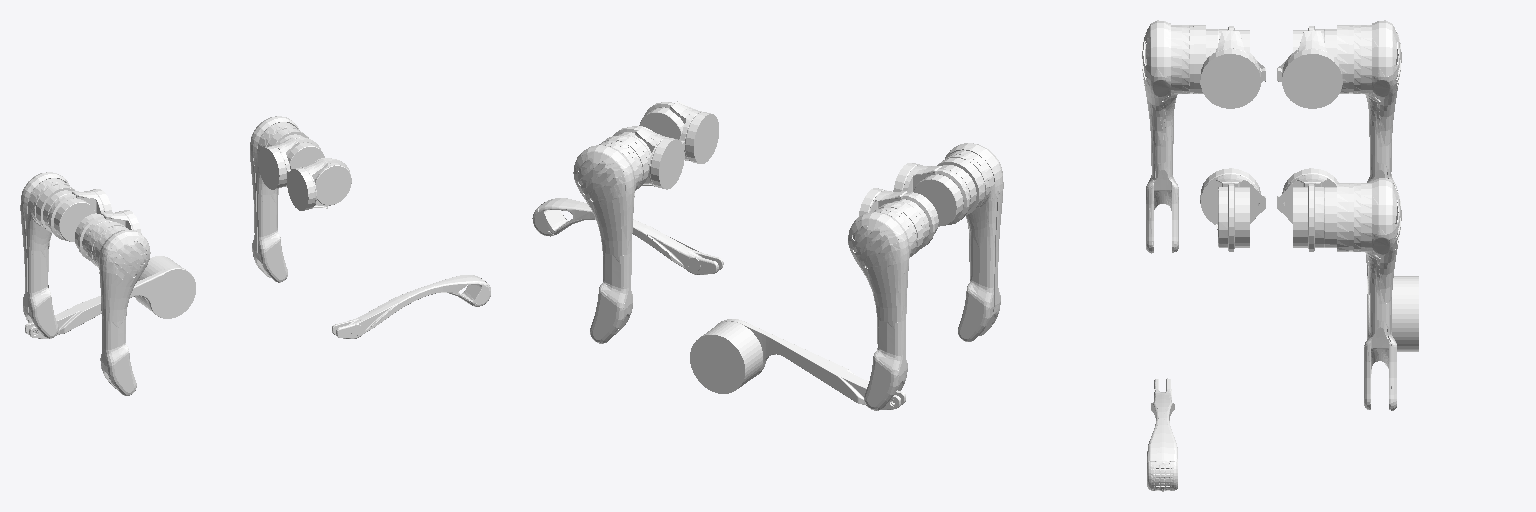
--- Render facts (derived) ---
Views: 3 orthographic renders of the robot side by side, from view 1: azimuth 30°, elevation 25°; view 2: azimuth 150°, elevation 25°; view 3: azimuth 270°, elevation 25°.
Model b2_description with 37 links and 36 joints (12 revolute, 24 fixed), rooted at base_link, posed all joints at 0 but 4 set to mid-range because 0 is outside their limits (FL_calf_joint = -1.62, FR_calf_joint = -1.62, RL_calf_joint = -1.62, RR_calf_joint = -1.62).
Links seen in each view (by area): view 1: RR_thigh, RL_thigh, RL_calf, FL_thigh, FR_calf, FR_hip, FL_hip, RL_hip, RR_hip; view 2: RL_thigh, FL_thigh, RL_calf, RR_thigh, FR_calf, FR_hip, RR_hip, FL_hip, RL_hip; view 3: FL_thigh, RR_thigh, RL_thigh, FR_hip, RL_hip, RR_hip, FL_hip, FR_calf, RL_calf.
Boxes of the visible links, x1,y1,x2,y2 form: RR_thigh: (85,221,150,395); RL_thigh: (20,172,75,338); RL_calf: (25,256,195,338); FL_thigh: (250,116,308,282); FR_calf: (332,275,490,338); FR_hip: (287,158,351,210); FL_hip: (258,137,324,189); RL_hip: (48,189,112,241); RR_hip: (75,210,141,260); RL_thigh: (848,202,925,410); FL_thigh: (573,135,650,343); RL_calf: (690,319,905,409); RR_thigh: (937,143,1003,341); FR_calf: (532,198,723,274); FR_hip: (639,101,718,163); RR_hip: (893,163,970,226); FL_hip: (613,126,684,189); RL_hip: (858,188,938,248); FL_thigh: (1324,178,1401,410); RR_thigh: (1141,20,1218,253); RL_thigh: (1324,20,1401,188); FR_hip: (1200,168,1265,251); RL_hip: (1277,26,1342,108); RR_hip: (1200,26,1265,108); FL_hip: (1277,168,1338,251); FR_calf: (1147,378,1177,491); RL_calf: (1366,255,1418,351).
Bounding box of the posed robot: 1.11 × 0.4879 × 0.4674 m (x, y, z).
9 mesh visuals loaded from 13 distinct referenced files (9 Collada DAE); not drawn: 4 (reference not matched to a file when rendering).

robot.urdf — b2_description:
<?xml version="1.0" encoding="utf-8"?>
<!-- This URDF was automatically created by SolidWorks to URDF Exporter! Originally created by Stephen Brawner ([email redacted]) 
     Commit Version: 1.6.0-4-g7f85cfe  Build Version: 1.6.7995.38578
     For more information, please see http://wiki.ros.org/sw_urdf_exporter -->
<robot
  name="b2_description">
  <link
    name="base_link">
    <inertial>
      <origin
        xyz="0.000458 0.005261 0.000665"
        rpy="0 0 0" />
      <mass
        value="35.606" />
      <inertia
        ixx="0.27466"
        ixy="-0.000622"
        ixz="0.00315"
        iyy="1.0618"
        iyz="-0.00139"
        izz="1.1825" />
    </inertial>
    <visual>
      <origin
        xyz="0 0 0"
        rpy="0 0 0" />
      <geometry>
        <mesh
          filename="package://b2_description/meshes/base_link.dae" />
      </geometry>
      <material
        name="">
        <color
          rgba="1 1 1 1" />
      </material>
    </visual>
    <collision>
      <origin
        xyz="0 0 0"
        rpy="0 0 0" />
        <geometry>
          <box size="0.5 0.28 0.15" />
        </geometry>
    </collision>
  </link>
  <link
    name="lidar_link">
    <inertial>
      <origin
        xyz="4.22E-15 1.05E-14 -3.05E-16"
        rpy="0 0 0" />
      <mass
        value="6.55E-08" />
      <inertia
        ixx="1.64E-15"
        ixy="0"
        ixz="-1.09E-47"
        iyy="1.64E-15"
        iyz="-1.32E-47"
        izz="1.64E-15" />
    </inertial>
    <collision>
      <origin
        xyz="0 0 -0.02"
        rpy="0 0 0" />
      <geometry>
        <cylinder length="0.16" radius="0.076" />
        <!-- <mesh
          filename="package://b2_description/meshes/lidar_link.STL" /> -->
      </geometry>
    </collision>
  </link>
  <joint
    name="joint_lidar"
    type="fixed">
    <origin
      xyz="0.34218 0 0.17851"
      rpy="0 0 0" />
    <parent
      link="base_link" />
    <child
      link="lidar_link" />
    <axis
      xyz="0 0 0" />
  </joint>
  <link
    name="f_dc_link">
    <inertial>
      <origin
        xyz="-3.47E-18 -1.11E-16 1.11E-16"
        rpy="0 0 0" />
      <mass
        value="6.54E-08" />
      <inertia
        ixx="1.64E-15"
        ixy="1.87E-32"
        ixz="-6.15E-32"
        iyy="1.64E-15"
        iyz="4.93E-32"
        izz="1.64E-15" />
    </inertial>
  </link>
  <joint
    name="joint_f_dc"
    type="fixed">
    <origin
      xyz="0.41251 0.024997 0.04765"
      rpy="-2.3562 0 -1.5708" />
    <parent
      link="base_link" />
    <child
      link="f_dc_link" />
    <axis
      xyz="0 0 0" />
  </joint>
  <link
    name="r_dc_link">
    <inertial>
      <origin
        xyz="1.63E-16 1.39E-16 2.78E-17"
        rpy="0 0 0" />
      <mass
        value="6.55E-08" />
      <inertia
        ixx="1.64E-15"
        ixy="-4.94E-44"
        ixz="4.36E-43"
        iyy="1.64E-15"
        iyz="0"
        izz="1.64E-15" />
    </inertial>
  </link>
  <joint
    name="joint_r_dc"
    type="fixed">
    <origin
      xyz="-0.4081 -0.025 0.024861"
      rpy="-2.3557 0 1.5708" />
    <parent
      link="base_link" />
    <child
      link="r_dc_link" />
    <axis
      xyz="0 0 0" />
  </joint>
  <link
    name="imu_link">
    <inertial>
      <origin
        xyz="-1.11E-16 -2.81E-16 -1.32E-16"
        rpy="0 0 0" />
      <mass
        value="6.54E-08" />
      <inertia
        ixx="1.64E-15"
        ixy="0"
        ixz="-1.09E-47"
        iyy="1.64E-15"
        iyz="-1.32E-47"
        izz="1.64E-15" />
    </inertial>
  </link>
  <joint
    name="joint_imu"
    type="fixed">
    <origin
      xyz="0 -0.02341 0.04927"
      rpy="0 0 0" />
    <parent
      link="base_link" />
    <child
      link="imu_link" />
    <axis
      xyz="0 0 0" />
  </joint>
  <link
    name="head_Link">
    <inertial>
      <origin
        xyz="0.33989 -0.000168 0.12029"
        rpy="0 0 0" />
      <mass
        value="3.366" />
      <inertia
        ixx="0.026455"
        ixy="3.15E-05"
        ixz="0.00166"
        iyy="0.029221"
        iyz="-3.27E-05"
        izz="0.010918" />
    </inertial>
    <collision>
      <origin
        xyz="0.41 0 0.005"
        rpy="0 0 0" />
      <geometry>
        <box size="0.04 0.12 0.14" />
      </geometry>
    </collision>
  </link>
  <joint
    name="joint_head"
    type="fixed">
    <origin
      xyz="0 0 0"
      rpy="0 0 0" />
    <parent
      link="base_link" />
    <child
      link="head_Link" />
    <axis
      xyz="0 0 0" />
  </joint>
  <link
    name="tail_link">
    <inertial>
      <origin
        xyz="-0.37448 0.000488 0.006495"
        rpy="0 0 0" />
      <mass
        value="0.777" />
      <inertia
        ixx="0.0028118"
        ixy="1.95E-05"
        ixz="-7.87E-06"
        iyy="0.0047506"
        iyz="-1.57E-05"
        izz="0.0029154" />
    </inertial>
    <collision>
      <origin
        xyz="-0.405 0 0.005"
        rpy="0 0 0" />
      <geometry>
        <box size="0.025 0.12 0.14" />
      </geometry>
    </collision>
  </link>
  <joint
    name="joint_tail"
    type="fixed">
    <origin
      xyz="0 0 0"
      rpy="0 0 0" />
    <parent
      link="base_link" />
    <child
      link="tail_link" />
    <axis
      xyz="0 0 0" />
  </joint>
  <link
    name="FL_hip">
    <inertial>
      <origin
        xyz="-0.009305 -0.010228 0.000264"
        rpy="0 0 0" />
      <mass
        value="2.256" />
      <inertia
        ixx="0.0026431"
        ixy="0.00019234"
        ixz="-6.76E-06"
        iyy="0.0046728"
        iyz="-7.16E-06"
        izz="0.0034208" />
    </inertial>
    <visual>
      <origin
        xyz="0 0 0"
        rpy="0 0 0" />
      <geometry>
        <mesh
          filename="package://b2_description/meshes/FL_hip.dae" />
      </geometry>
      <material
        name="">
        <color
          rgba="1 1 1 1" />
      </material>
    </visual>
    <collision>
      <origin
        xyz="0 0.12 0"
        rpy="1.5707963267948966 0 0" />
      <geometry>
        <cylinder length="0.05" radius="0.07" />
      </geometry>
    </collision>
  </link>
  <joint
    name="FL_hip_joint"
    type="revolute">
    <origin
      xyz="0.3285 0.072 0"
      rpy="0 0 0" />
    <parent
      link="base_link" />
    <child
      link="FL_hip" />
    <axis
      xyz="1 0 0" />
    <limit
      lower="-0.87"
      upper="0.87"
      effort="200"
      velocity="23" />
  </joint>
  <link name="FL_hip_rotor">
    <!-- <visual>
      <origin rpy="0 1.5707963267948966 0" xyz="0 0 0"/>
      <geometry>
        <cylinder length="0.02" radius="0.05"/>
      </geometry>
    </visual> -->
    <collision>
      <origin rpy="0 1.5707963267948966 0" xyz="0 0 0"/>
      <geometry>
        <cylinder length="0.02" radius="0.05"/>
      </geometry>
    </collision>
    <inertial>
      <origin rpy="0 0 0" xyz="0.0 0.0 0.0"/>
      <mass value="0.2734"/>
      <inertia ixx="0.000144463" ixy="0.0" ixz="0.0" iyy="0.000144463" iyz="0.0" izz="0.000263053"/>
    </inertial>
  </link>
  <joint name="FL_hip_rotor_joint" type="fixed">
    <origin rpy="0 0 0" xyz="0.20205 0.072 0"/>
    <parent link="base_link"/>
    <child link="FL_hip_rotor"/>
  </joint>
  <link
    name="FL_thigh">
    <inertial>
      <origin
        xyz="-0.004346 -0.035797 -0.044921"
        rpy="0 0 0" />
      <mass
        value="3.591" />
      <inertia
        ixx="0.041718"
        ixy="0.00055623"
        ixz="-0.0022768"
        iyy="0.041071"
        iyz="0.005796"
        izz="0.0065677" />
    </inertial>
    <visual>
      <origin
        xyz="0 0 0"
        rpy="0 0 0" />
      <geometry>
        <mesh
          filename="package://b2_description/meshes/FL_thigh.dae" />
      </geometry>
      <material
        name="">
        <color
          rgba="1 1 1 1" />
      </material>
    </visual>
    <collision>
      <origin
        xyz="-0.025 0 -0.16"
        rpy="0 1.57 0" />
      <geometry>
        <box size="0.32 0.0445 0.054" />
      </geometry>
    </collision>
  </link>
  <joint
    name="FL_thigh_joint"
    type="revolute">
    <origin
      xyz="0 0.11973 0"
      rpy="0 0 0" />
    <parent
      link="FL_hip" />
    <child
      link="FL_thigh" />
    <axis
      xyz="0 1 0" />
    <limit
      lower="-0.94"
      upper="4.69"
      effort="200"
      velocity="23" />
  </joint>
  <link name="FL_thigh_rotor">
    <!-- <visual>
      <origin rpy="1.5707963267948966 0 0" xyz="0 0 0"/>
      <geometry>
        <cylinder length="0.02" radius="0.05"/>
      </geometry>
    </visual> -->
    <collision>
      <origin rpy="1.5707963267948966 0 0" xyz="0 0 0"/>
      <geometry>
        <cylinder length="0.02" radius="0.05"/>
      </geometry>
    </collision>
    <inertial>
      <origin rpy="0 0 0" xyz="0.0 0.0 0.0"/>
      <mass value="0.2734"/>
      <inertia ixx="0.000144463" ixy="0.0" ixz="0.0" iyy="0.000144463" iyz="0.0" izz="0.000263053"/>
    </inertial>
  </link>
  <joint name="FL_thigh_rotor_joint" type="fixed">
    <origin rpy="0 0 0" xyz="0 -0.00798 0"/>
    <parent link="FL_hip"/>
    <child link="FL_thigh_rotor"/>
  </joint>
  <link
    name="FL_calf">
    <inertial>
      <origin
        xyz="0.012422 0 -0.12499"
        rpy="0 0 0" />
      <mass
        value="0.58094" />
      <inertia
        ixx="0.01143"
        ixy="0"
        ixz="0.000643"
        iyy="0.011534"
        iyz="0"
        izz="0.000331" />
    </inertial>
    <visual>
      <origin
        xyz="0 0 0"
        rpy="0 0 0" />
      <geometry>
        <mesh
          filename="package://b2_description/meshes/FL_calf.dae" />
      </geometry>
      <material
        name="">
        <color
          rgba="1 1 1 1" />
      </material>
    </visual>
    <collision>
      <origin rpy="0 1.2 0" xyz="-0.002 0 -0.03"/>
      <geometry>
        <box size="0.1 0.0245 0.018"/>
      </geometry>
    </collision>
    <collision>
      <origin rpy="0 1.35 0" xyz="0.022 0 -0.1"/>
      <geometry>
        <box size="0.1 0.0245 0.018"/>
      </geometry>
    </collision>
    <collision>
      <origin rpy="0 1.53 0" xyz="0.036 0 -0.225"/>
      <geometry>
        <box size="0.15 0.0245 0.015"/>
      </geometry>
    </collision>
    <collision>
      <origin rpy="0 2 0" xyz="0.023 0 -0.31"/>
      <geometry>
        <box size="0.05 0.028 0.035"/>
      </geometry>
    </collision>
  </link>
  <joint
    name="FL_calf_joint"
    type="revolute">
    <origin
      xyz="0 -8.6984E-05 -0.35"
      rpy="0 0 0" />
    <parent
      link="FL_thigh" />
    <child
      link="FL_calf" />
    <axis
      xyz="0 1 0" />
    <limit
      lower="-2.82"
      upper="-0.43"
      effort="320"
      velocity="14" />
  </joint>
  <link name="FL_calf_rotor">
    <!-- <visual>
      <origin rpy="1.5707963267948966 0 0" xyz="0 0 0"/>
      <geometry>
        <cylinder length="0.02" radius="0.05"/>
      </geometry>
    </visual> -->
    <collision>
      <origin rpy="1.5707963267948966 0 0" xyz="0 0 0"/>
      <geometry>
        <cylinder length="0.02" radius="0.05"/>
      </geometry>
    </collision>
    <inertial>
      <origin rpy="0 0 0" xyz="0.0 0.0 0.0"/>
      <mass value="0.2734"/>
      <inertia ixx="0.000144463" ixy="0.0" ixz="0.0" iyy="0.000144463" iyz="0.0" izz="0.000263053"/>
    </inertial>
  </link>
  <joint name="FL_calf_rotor_joint" type="fixed">
    <origin rpy="0 0 0" xyz="0 -0.05788 0"/>
    <parent link="FL_thigh"/>
    <child link="FL_calf_rotor"/>
  </joint>
  <link
    name="FL_foot">
    <inertial>
      <origin
        xyz="-0.006511 0 -0.010144"
        rpy="0 0 0" />
      <mass
        value="0.098183" />
      <inertia
        ixx="3.8E-05"
        ixy="0"
        ixz="1.1E-05"
        iyy="4.1E-05"
        iyz="0"
        izz="4.2E-05" />
    </inertial>
    <collision>
      <origin
        xyz="0 0 0"
        rpy="1.57 0 0" />
      <geometry>
        <cylinder length="0.05" radius="0.032" />
      </geometry>
    </collision>
  </link>
  <joint
    name="FL_foot_joint"
    type="fixed">
    <origin
      xyz="0 0 -0.35"
      rpy="0 0 0" />
    <parent
      link="FL_calf" />
    <child
      link="FL_foot" />
  </joint>
  <link
    name="FR_hip">
    <inertial>
      <origin
        xyz="-0.009305 0.010228 0.000264"
        rpy="0 0 0" />
      <mass
        value="2.256" />
      <inertia
        ixx="0.0026431"
        ixy="-0.00019234"
        ixz="-6.76E-06"
        iyy="0.0046728"
        iyz="7.16E-06"
        izz="0.0034208" />
    </inertial>
    <visual>
      <origin
        xyz="0 0 0"
        rpy="0 0 0" />
      <geometry>
        <mesh
          filename="package://b2_description/meshes/FR_hip.dae" />
      </geometry>
      <material
        name="">
        <color
          rgba="1 1 1 1" />
      </material>
    </visual>
    <collision>
      <origin
        xyz="0 -0.12 0"
        rpy="1.5707963267948966 0 0" />
      <geometry>
        <cylinder length="0.05" radius="0.07" />
      </geometry>
    </collision>
  </link>
  <joint
    name="FR_hip_joint"
    type="revolute">
    <origin
      xyz="0.3285 -0.072 0"
      rpy="0 0 0" />
    <parent
      link="base_link" />
    <child
      link="FR_hip" />
    <axis
      xyz="1 0 0" />
    <limit
      lower="-0.87"
      upper="0.87"
      effort="200"
      velocity="23" />
  </joint>
  <link name="FR_hip_rotor">
    <!-- <visual>
      <origin rpy="0 1.5707963267948966 0" xyz="0 0 0"/>
      <geometry>
        <cylinder length="0.02" radius="0.05"/>
      </geometry>
    </visual> -->
    <collision>
      <origin rpy="0 1.5707963267948966 0" xyz="0 0 0"/>
      <geometry>
        <cylinder length="0.02" radius="0.05"/>
      </geometry>
    </collision>
    <inertial>
      <origin rpy="0 0 0" xyz="0.0 0.0 0.0"/>
      <mass value="0.2734"/>
      <inertia ixx="0.000144463" ixy="0.0" ixz="0.0" iyy="0.000144463" iyz="0.0" izz="0.000263053"/>
    </inertial>
  </link>
  <joint name="FR_hip_rotor_joint" type="fixed">
    <origin rpy="0 0 0" xyz="0.20205 -0.072 0"/>
    <parent link="base_link"/>
    <child link="FR_hip_rotor"/>
  </joint>
  <link
    name="FR_thigh">
    <inertial>
      <origin
        xyz="-0.004346 0.035797 -0.044921"
        rpy="0 0 0" />
      <mass
        value="3.591" />
      <inertia
        ixx="0.041718"
        ixy="-0.00055623"
        ixz="-0.0022768"
        iyy="0.041071"
        iyz="-0.005796"
        izz="0.0065677" />
    </inertial>
    <visual>
      <origin
        xyz="0 0 0"
        rpy="0 0 0" />
      <geometry>
        <mesh
          filename="package://b2_description/meshes/FR_thigh.dae" />
      </geometry>
      <material
        name="">
        <color
          rgba="1 1 1 1" />
      </material>
    </visual>
    <collision>
      <origin rpy="0 1.57 0" xyz="-0.03 0 -0.2"/>
      <geometry>
        <box size="0.25 0.028 0.04"/>
      </geometry>
    </collision>
  </link>
  <joint
    name="FR_thigh_joint"
    type="revolute">
    <origin
      xyz="0 -0.11973 0"
      rpy="0 0 0" />
    <parent
      link="FR_hip" />
    <child
      link="FR_thigh" />
    <axis
      xyz="0 1 0" />
    <limit
      lower="-0.94"
      upper="4.69"
      effort="200"
      velocity="23" />
  </joint>
  <link name="FR_thigh_rotor">
    <!-- <visual>
      <origin rpy="1.5707963267948966 0 0" xyz="0 0 0"/>
      <geometry>
        <cylinder length="0.02" radius="0.05"/>
      </geometry>
    </visual> -->
    <collision>
      <origin rpy="1.5707963267948966 0 0" xyz="0 0 0"/>
      <geometry>
        <cylinder length="0.02" radius="0.05"/>
      </geometry>
    </collision>
    <inertial>
      <origin rpy="0 0 0" xyz="0.0 0.0 0.0"/>
      <mass value="0.2734"/>
      <inertia ixx="0.000144463" ixy="0.0" ixz="0.0" iyy="0.000144463" iyz="0.0" izz="0.000263053"/>
    </inertial>
  </link>
  <joint name="FR_thigh_rotor_joint" type="fixed">
    <origin rpy="0 0 0" xyz="0 0.00798 0"/>
    <parent link="FR_hip"/>
    <child link="FR_thigh_rotor"/>
  </joint>
  <link
    name="FR_calf">
    <inertial>
      <origin
        xyz="0.012422 0 -0.12499"
        rpy="0 0 0" />
      <mass
        value="0.58094" />
      <inertia
        ixx="0.01143"
        ixy="0"
        ixz="0.000643"
        iyy="0.011534"
        iyz="0"
        izz="0.000331" />
    </inertial>
    <visual>
      <origin
        xyz="0 0 0"
        rpy="0 0 0" />
      <geometry>
        <mesh
          filename="package://b2_description/meshes/FR_calf.dae" />
      </geometry>
      <material
        name="">
        <color
          rgba="1 1 1 1" />
      </material>
    </visual>
    <collision>
      <origin rpy="0 1.2 0" xyz="-0.002 0 -0.03"/>
      <geometry>
        <box size="0.1 0.0245 0.018"/>
      </geometry>
    </collision>
    <collision>
      <origin rpy="0 1.35 0" xyz="0.022 0 -0.1"/>
      <geometry>
        <box size="0.1 0.0245 0.018"/>
      </geometry>
    </collision>
    <collision>
      <origin rpy="0 1.53 0" xyz="0.036 0 -0.225"/>
      <geometry>
        <box size="0.15 0.0245 0.015"/>
      </geometry>
    </collision>
    <collision>
      <origin rpy="0 2 0" xyz="0.023 0 -0.31"/>
      <geometry>
        <box size="0.05 0.028 0.035"/>
      </geometry>
    </collision>
  </link>
  <joint
    name="FR_calf_joint"
    type="revolute">
    <origin
      xyz="0 8.6986E-05 -0.35"
      rpy="0 0 0" />
    <parent
      link="FR_thigh" />
    <child
      link="FR_calf" />
    <axis
      xyz="0 1 0" />
    <limit
      lower="-2.82"
      upper="-0.43"
      effort="320"
      velocity="14" />
  </joint>
  <link name="FR_calf_rotor">
    <!-- <visual>
      <origin rpy="1.5707963267948966 0 0" xyz="0 0 0"/>
      <geometry>
        <cylinder length="0.02" radius="0.05"/>
      </geometry>
      <material name="green"/>
    </visual> -->
    <collision>
      <origin rpy="1.5707963267948966 0 0" xyz="0 0 0"/>
      <geometry>
        <cylinder length="0.02" radius="0.05"/>
      </geometry>
    </collision>
    <inertial>
      <origin rpy="0 0 0" xyz="0.0 0.0 0.0"/>
      <mass value="0.2734"/>
      <inertia ixx="0.000144463" ixy="0.0" ixz="0.0" iyy="0.000144463" iyz="0.0" izz="0.000263053"/>
    </inertial>
  </link>
  <joint name="FR_calf_rotor_joint" type="fixed">
    <origin rpy="0 0 0" xyz="0 0.05788 0"/>
    <parent link="FR_thigh"/>
    <child link="FR_calf_rotor"/>
  </joint>
  <link
    name="FR_foot">
    <inertial>
      <origin
        xyz="-0.006511 0 -0.010144"
        rpy="0 0 0" />
      <mass
        value="0.098183" />
      <inertia
        ixx="3.8E-05"
        ixy="0"
        ixz="1.1E-05"
        iyy="4.1E-05"
        iyz="0"
        izz="4.2E-05" />
    </inertial>
    <collision>
      <origin
        xyz="0 0 0"
        rpy="1.57 0 0" />
      <geometry>
        <cylinder length="0.05" radius="0.032" />
      </geometry>
    </collision>
  </link>
  <joint
    name="FR_foot_joint"
    type="fixed">
    <origin
      xyz="0 0 -0.35"
      rpy="0 0 0" />
    <parent
      link="FR_calf" />
    <child
      link="FR_foot" />
  </joint>
  <link
    name="RL_hip">
    <inertial>
      <origin
        xyz="0.009305 -0.010228 0.000264"
        rpy="0 0 0" />
      <mass
        value="2.256" />
      <inertia
        ixx="0.0026431"
        ixy="-0.00019234"
        ixz="6.76E-06"
        iyy="0.0046728"
        iyz="-7.16E-06"
        izz="0.0034208" />
    </inertial>
    <visual>
      <origin
        xyz="0 0 0"
        rpy="0 0 0" />
      <geometry>
        <mesh
          filename="package://b2_description/meshes/RL_hip.dae" />
      </geometry>
      <material
        name="">
        <color
          rgba="1 1 1 1" />
      </material>
    </visual>
    <collision>
      <origin
        xyz="0 0.12 0"
        rpy="1.5707963267948966 0 0" />
      <geometry>
        <cylinder length="0.05" radius="0.07" />
      </geometry>
    </collision>
  </link>
  <joint
    name="RL_hip_joint"
    type="revolute">
    <origin
      xyz="-0.3285 0.072 0"
      rpy="0 0 0" />
    <parent
      link="base_link" />
    <child
      link="RL_hip" />
    <axis
      xyz="1 0 0" />
    <limit
      lower="-0.87"
      upper="0.87"
      effort="200"
      velocity="23" />
  </joint>
  <link name="RL_hip_rotor">
    <!-- <visual>
      <origin rpy="0 1.5707963267948966 0" xyz="0 0 0"/>
      <geometry>
        <cylinder length="0.02" radius="0.05"/>
      </geometry>
    </visual> -->
    <collision>
      <origin rpy="0 1.5707963267948966 0" xyz="0 0 0"/>
      <geometry>
        <cylinder length="0.02" radius="0.05"/>
      </geometry>
    </collision>
    <inertial>
      <origin rpy="0 0 0" xyz="0.0 0.0 0.0"/>
      <mass value="0.2734"/>
      <inertia ixx="0.000144463" ixy="0.0" ixz="0.0" iyy="0.000144463" iyz="0.0" izz="0.000263053"/>
    </inertial>
  </link>
  <joint name="RL_hip_rotor_joint" type="fixed">
    <origin rpy="0 0 0" xyz="-0.20205 0.072 0"/>
    <parent link="base_link"/>
    <child link="RL_hip_rotor"/>
  </joint>
  <link
    name="RL_thigh">
    <inertial>
      <origin
        xyz="-0.004346 -0.035797 -0.044921"
        rpy="0 0 0" />
      <mass
        value="3.591" />
      <inertia
        ixx="0.041718"
        ixy="0.00055623"
        ixz="-0.0022768"
        iyy="0.041071"
        iyz="0.005796"
        izz="0.0065677" />
    </inertial>
    <visual>
      <origin
        xyz="0 0 0"
        rpy="0 0 0" />
      <geometry>
        <mesh
          filename="package://b2_description/meshes/RL_thigh.dae" />
      </geometry>
      <material
        name="">
        <color
          rgba="1 1 1 1" />
      </material>
    </visual>
    <collision>
      <origin rpy="0 1.57 0" xyz="-0.03 0 -0.2"/>
      <geometry>
        <box size="0.25 0.028 0.04"/>
      </geometry>
    </collision>
  </link>
  <joint
    name="RL_thigh_joint"
    type="revolute">
    <origin
      xyz="0 0.11973 0"
      rpy="0 0 0" />
    <parent
      link="RL_hip" />
    <child
      link="RL_thigh" />
    <axis
      xyz="0 1 0" />
    <limit
      lower="-0.94"
      upper="4.69"
      effort="200"
      velocity="23" />
  </joint>
  <link name="RL_thigh_rotor">
    <!-- <visual>
      <origin rpy="1.5707963267948966 0 0" xyz="0 0 0"/>
      <geometry>
        <cylinder length="0.02" radius="0.05"/>
      </geometry>
    </visual> -->
    <collision>
      <origin rpy="1.5707963267948966 0 0" xyz="0 0 0"/>
      <geometry>
        <cylinder length="0.02" radius="0.05"/>
      </geometry>
    </collision>
    <inertial>
      <origin rpy="0 0 0" xyz="0.0 0.0 0.0"/>
      <mass value="0.2734"/>
      <inertia ixx="0.000144463" ixy="0.0" ixz="0.0" iyy="0.000144463" iyz="0.0" izz="0.000263053"/>
    </inertial>
  </link>
  <joint name="RL_thigh_rotor_joint" type="fixed">
    <origin rpy="0 0 0" xyz="0 -0.00798 0"/>
    <parent link="RL_hip"/>
    <child link="RL_thigh_rotor"/>
  </joint>
  <link
    name="RL_calf">
    <inertial>
      <origin
        xyz="0.012422 0 -0.12499"
        rpy="0 0 0" />
      <mass
        value="0.58094" />
      <inertia
        ixx="0.01143"
        ixy="0"
        ixz="0.000643"
        iyy="0.011534"
        iyz="0"
        izz="0.000331" />
    </inertial>
    <visual>
      <origin
        xyz="0 0 0"
        rpy="0 0 0" />
      <geometry>
        <mesh
          filename="package://b2_description/meshes/RL_calf.dae" />
      </geometry>
      <material
        name="">
        <color
          rgba="1 1 1 1" />
      </material>
    </visual>
    <collision>
      <origin rpy="0 1.2 0" xyz="-0.002 0 -0.03"/>
      <geometry>
        <box size="0.1 0.0245 0.018"/>
      </geometry>
    </collision>
    <collision>
      <origin rpy="0 1.35 0" xyz="0.022 0 -0.1"/>
      <geometry>
        <box size="0.1 0.0245 0.018"/>
      </geometry>
    </collision>
    <collision>
      <origin rpy="0 1.53 0" xyz="0.036 0 -0.225"/>
      <geometry>
        <box size="0.15 0.0245 0.015"/>
      </geometry>
    </collision>
    <collision>
      <origin rpy="0 2 0" xyz="0.023 0 -0.31"/>
      <geometry>
        <box size="0.05 0.028 0.035"/>
      </geometry>
    </collision>
  </link>
  <joint
    name="RL_calf_joint"
    type="revolute">
    <origin
      xyz="0 -8.6984E-05 -0.35"
      rpy="0 0 0" />
    <parent
      link="RL_thigh" />
    <child
      link="RL_calf" />
    <axis
      xyz="0 1 0" />
    <limit
      lower="-2.82"
      upper="-0.43"
      effort="320"
      velocity="14" />
  </joint>
  <link name="RL_calf_rotor">
    <!-- <visual>
      <origin rpy="1.5707963267948966 0 0" xyz="0 0 0"/>
      <geometry>
        <cylinder length="0.02" radius="0.05"/>
      </geometry>
    </visual> -->
    <collision>
      <origin rpy="1.5707963267948966 0 0" xyz="0 0 0"/>
      <geometry>
        <cylinder length="0.02" radius="0.05"/>
      </geometry>
    </collision>
    <inertial>
      <origin rpy="0 0 0" xyz="0.0 0.0 0.0"/>
      <mass value="0.2734"/>
      <inertia ixx="0.000144463" ixy="0.0" ixz="0.0" iyy="0.000144463" iyz="0.0" izz="0.000263053"/>
    </inertial>
  </link>
  <joint name="RL_calf_rotor_joint" type="fixed">
    <origin rpy="0 0 0" xyz="0 -0.05788 0"/>
    <parent link="RL_thigh"/>
    <child link="RL_calf_rotor"/>
  </joint>
  <link
    name="RL_foot">
    <inertial>
      <origin
        xyz="-0.006511 0 -0.010144"
        rpy="0 0 0" />
      <mass
        value="0.098183" />
      <inertia
        ixx="3.8E-05"
        ixy="0"
        ixz="1.1E-05"
        iyy="4.1E-05"
        iyz="0"
        izz="4.2E-05" />
    </inertial>
    <collision>
      <origin
        xyz="0 0 0"
        rpy="1.57 0 0" />
      <geometry>
        <cylinder length="0.05" radius="0.032" />
      </geometry>
    </collision>
  </link>
  <joint
    name="RL_foot_joint"
    type="fixed">
    <origin
      xyz="0 0 -0.35"
      rpy="0 0 0" />
    <parent
      link="RL_calf" />
    <child
      link="RL_foot" />
  </joint>
  <link
    name="RR_hip">
    <inertial>
      <origin
        xyz="0.009305 -0.010228 0.000264"
        rpy="0 0 0" />
      <mass
        value="2.256" />
      <inertia
        ixx="0.0026431"
        ixy="0.00019234"
        ixz="6.76E-06"
        iyy="0.0046728"
        iyz="7.16E-06"
        izz="0.0034208" />
    </inertial>
    <visual>
      <origin
        xyz="0 0 0"
        rpy="0 0 0" />
      <geometry>
        <mesh
          filename="package://b2_description/meshes/RR_hip.dae" />
      </geometry>
      <material
        name="">
        <color
          rgba="1 1 1 1" />
      </material>
    </visual>
    <collision>
      <origin
        xyz="0 -0.12 0"
        rpy="1.5707963267948966 0 0" />
      <geometry>
        <cylinder length="0.05" radius="0.07" />
      </geometry>
    </collision>
  </link>
  <joint
    name="RR_hip_joint"
    type="revolute">
    <origin
      xyz="-0.3285 -0.072 0"
      rpy="0 0 0" />
    <parent
      link="base_link" />
    <child
      link="RR_hip" />
    <axis
      xyz="1 0 0" />
    <limit
      lower="-0.87"
      upper="0.87"
      effort="200"
      velocity="23" />
  </joint>
  <link name="RR_hip_rotor">
    <!-- <visual>
      <origin rpy="0 1.5707963267948966 0" xyz="0 0 0"/>
      <geometry>
        <cylinder length="0.02" radius="0.05"/>
      </geometry>
    </visual> -->
    <collision>
      <origin rpy="0 1.5707963267948966 0" xyz="0 0 0"/>
      <geometry>
        <cylinder length="0.02" radius="0.05"/>
      </geometry>
    </collision>
    <inertial>
      <origin rpy="0 0 0" xyz="0.0 0.0 0.0"/>
      <mass value="0.2734"/>
      <inertia ixx="0.000144463" ixy="0.0" ixz="0.0" iyy="0.000144463" iyz="0.0" izz="0.000263053"/>
    </inertial>
  </link>
  <joint name="RR_hip_rotor_joint" type="fixed">
    <origin rpy="0 0 0" xyz="-0.20205 -0.072 0"/>
    <parent link="base_link"/>
    <child link="RR_hip_rotor"/>
  </joint>
  <link
    name="RR_thigh">
    <inertial>
      <origin
        xyz="-0.004346 0.035797 -0.044921"
        rpy="0 0 0" />
      <mass
        value="3.591" />
      <inertia
        ixx="0.041718"
        ixy="-0.00055623"
        ixz="-0.0022768"
        iyy="0.041071"
        iyz="-0.005796"
        izz="0.0065677" />
    </inertial>
    <visual>
      <origin
        xyz="0 0 0"
        rpy="0 0 0" />
      <geometry>
        <mesh
          filename="package://b2_description/meshes/RR_thigh.dae" />
      </geometry>
      <material
        name="">
        <color
          rgba="1 1 1 1" />
      </material>
    </visual>
    <collision>
      <origin rpy="0 1.57 0" xyz="-0.03 0 -0.2"/>
      <geometry>
        <box size="0.25 0.028 0.04"/>
      </geometry>
    </collision>
  </link>
  <joint
    name="RR_thigh_joint"
    type="revolute">
    <origin
      xyz="0 -0.11973 0"
      rpy="0 0 0" />
    <parent
      link="RR_hip" />
    <child
      link="RR_thigh" />
    <axis
      xyz="0 1 0" />
    <limit
      lower="-0.94"
      upper="4.69"
      effort="200"
      velocity="23" />
  </joint>
  <link name="RR_thigh_rotor">
    <!-- <visual>
      <origin rpy="1.5707963267948966 0 0" xyz="0 0 0"/>
      <geometry>
        <cylinder length="0.02" radius="0.05"/>
      </geometry>
    </visual> -->
    <collision>
      <origin rpy="1.5707963267948966 0 0" xyz="0 0 0"/>
      <geometry>
        <cylinder length="0.02" radius="0.05"/>
      </geometry>
    </collision>
    <inertial>
      <origin rpy="0 0 0" xyz="0.0 0.0 0.0"/>
      <mass value="0.2734"/>
      <inertia ixx="0.000144463" ixy="0.0" ixz="0.0" iyy="0.000144463" iyz="0.0" izz="0.000263053"/>
    </inertial>
  </link>
  <joint name="RR_thigh_rotor_joint" type="fixed">
    <origin rpy="0 0 0" xyz="0 0.00798 0"/>
    <parent link="RR_hip"/>
    <child link="RR_thigh_rotor"/>
  </joint>
  <link
    name="RR_calf">
    <inertial>
      <origin
        xyz="0.012422 0 -0.12499"
        rpy="0 0 0" />
      <mass
        value="0.58094" />
      <inertia
        ixx="0.01143"
        ixy="0"
        ixz="0.000643"
        iyy="0.011534"
        iyz="0"
        izz="0.000331" />
    </inertial>
    <visual>
      <origin
        xyz="0 0 0"
        rpy="0 0 0" />
      <geometry>
        <mesh
          filename="package://b2_description/meshes/RR_calf.dae" />
      </geometry>
      <material
        name="">
        <color
          rgba="1 1 1 1" />
      </material>
    </visual>
    <collision>
      <origin rpy="0 1.2 0" xyz="-0.002 0 -0.03"/>
      <geometry>
        <box size="0.1 0.0245 0.018"/>
      </geometry>
    </collision>
    <collision>
      <origin rpy="0 1.35 0" xyz="0.022 0 -0.1"/>
      <geometry>
        <box size="0.1 0.0245 0.018"/>
      </geometry>
    </collision>
    <collision>
      <origin rpy="0 1.53 0" xyz="0.036 0 -0.225"/>
      <geometry>
        <box size="0.15 0.0245 0.015"/>
      </geometry>
    </collision>
    <collision>
      <origin rpy="0 2 0" xyz="0.023 0 -0.31"/>
      <geometry>
        <box size="0.05 0.028 0.035"/>
      </geometry>
    </collision>
  </link>
  <joint
    name="RR_calf_joint"
    type="revolute">
    <origin
      xyz="0 8.6986E-05 -0.35"
      rpy="0 0 0" />
    <parent
      link="RR_thigh" />
    <child
      link="RR_calf" />
    <axis
      xyz="0 1 0" />
    <limit
      lower="-2.82"
      upper="-0.43"
      effort="320"
      velocity="14" />
  </joint>
  <link name="RR_calf_rotor">
    <!-- <visual>
      <origin rpy="1.5707963267948966 0 0" xyz="0 0 0"/>
      <geometry>
        <cylinder length="0.02" radius="0.05"/>
      </geometry>
    </visual> -->
    <collision>
      <origin rpy="1.5707963267948966 0 0" xyz="0 0 0"/>
      <geometry>
        <cylinder length="0.02" radius="0.05"/>
      </geometry>
    </collision>
    <inertial>
      <origin rpy="0 0 0" xyz="0.0 0.0 0.0"/>
      <mass value="0.2734"/>
      <inertia ixx="0.000144463" ixy="0.0" ixz="0.0" iyy="0.000144463" iyz="0.0" izz="0.000263053"/>
    </inertial>
  </link>
  <joint name="RR_calf_rotor_joint" type="fixed">
    <origin rpy="0 0 0" xyz="0 0.05788 0"/>
    <parent link="RR_thigh"/>
    <child link="RR_calf_rotor"/>
  </joint>
  <link
    name="RR_foot">
    <inertial>
      <origin
        xyz="-0.006511 0 -0.010144"
        rpy="0 0 0" />
      <mass
        value="0.098183" />
      <inertia
        ixx="3.8E-05"
        ixy="0"
        ixz="1.1E-05"
        iyy="4.1E-05"
        iyz="0"
        izz="4.2E-05" />
    </inertial>
    <collision>
      <origin
        xyz="0 0 0"
        rpy="1.57 0 0" />
      <geometry>
        <cylinder length="0.05" radius="0.032" />
      </geometry>
    </collision>
  </link>
  <joint
    name="RR_foot_joint"
    type="fixed">
    <origin
      xyz="0 -8.6984E-05 -0.35"
      rpy="0 0 0" />
    <parent
      link="RR_calf" />
    <child
      link="RR_foot" />
  </joint>
  <link
    name="f_oc_link">
    <inertial>
      <origin
        xyz="-2.78E-17 1.73E-18 0"
        rpy="0 0 0" />
      <mass
        value="6.55E-08" />
      <inertia
        ixx="1.64E-15"
        ixy="-1.32E-47"
        ixz="0"
        iyy="1.64E-15"
        iyz="1.09E-47"
        izz="1.64E-15" />
    </inertial>
    <!-- <visual>
      <origin
        xyz="0 0 0"
        rpy="0 0 0" />
      <geometry>
        <mesh
          filename="package://b2_description/meshes/f_oc_link.STL" />
      </geometry>
      <material
        name="">
        <color
          rgba="1 1 1 1" />
      </material>
    </visual>
    <collision>
      <origin
        xyz="0 0 0"
        rpy="0 0 0" />
      <geometry>
        <mesh
          filename="package://b2_description/meshes/f_oc_link.STL" />
      </geometry>
    </collision> -->
  </link>
  <joint
    name="joint_f_oc"
    type="fixed">
    <origin
      xyz="0.39079 0 -0.013433"
      rpy="-1.5708 0 -1.5708" />
    <parent
      link="base_link" />
    <child
      link="f_oc_link" />
    <axis
      xyz="0 0 0" />
  </joint>
  <link
    name="r_oc_link">
    <inertial>
      <origin
        xyz="-1.3E-19 3.47E-18 -5.55E-17"
        rpy="0 0 0" />
      <mass
        value="6.55E-08" />
      <inertia
        ixx="1.64E-15"
        ixy="1.33E-47"
        ixz="-6.38E-33"
        iyy="1.64E-15"
        iyz="-1.64E-47"
        izz="1.64E-15" />
    </inertial>
    <!-- <visual>
      <origin
        xyz="0 0 0"
        rpy="0 0 0" />
      <geometry>
        <mesh
          filename="package://b2_description/meshes/r_oc_link.STL" />
      </geometry>
      <material
        name="">
        <color
          rgba="1 1 1 1" />
      </material>
    </visual>
    <collision>
      <origin
        xyz="0 0 0"
        rpy="0 0 0" />
      <geometry>
        <mesh
          filename="package://b2_description/meshes/r_oc_link.STL" />
      </geometry>
    </collision> -->
  </link>
  <joint
    name="joint_r_oc"
    type="fixed">
    <origin
      xyz="-0.38451 0 -0.023249"
      rpy="-1.5708 0 1.5708" />
    <parent
      link="base_link" />
    <child
      link="r_oc_link" />
    <axis
      xyz="0 0 0" />
  </joint>
</robot>
